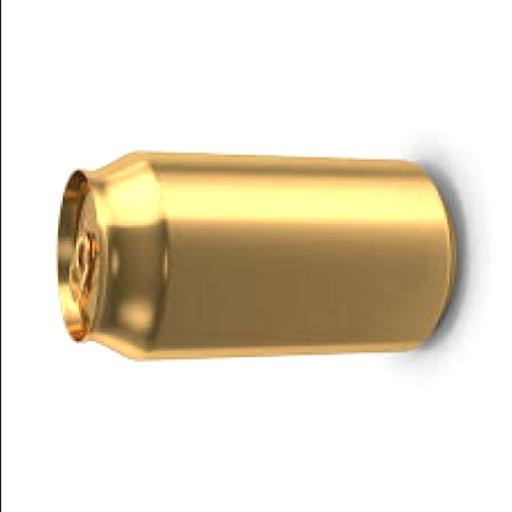metal: (52, 148, 453, 357)
